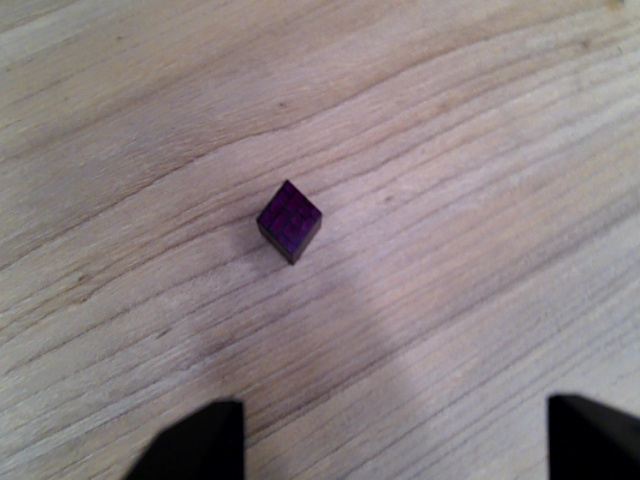brick: (252, 178, 325, 267)
